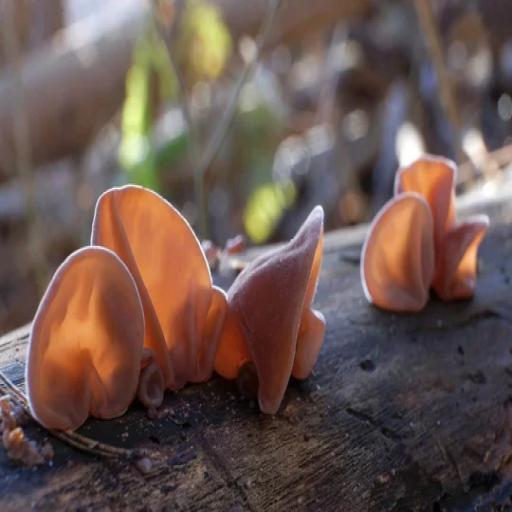mushroom: (90, 181, 221, 391), (214, 207, 334, 414), (20, 244, 145, 442), (388, 147, 489, 312), (355, 190, 441, 338)
